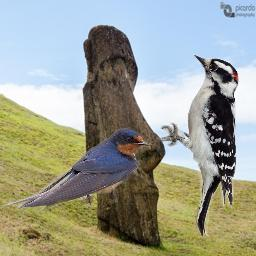Swallow: (3, 127, 150, 211)
Woodpecker: (154, 52, 241, 237)
